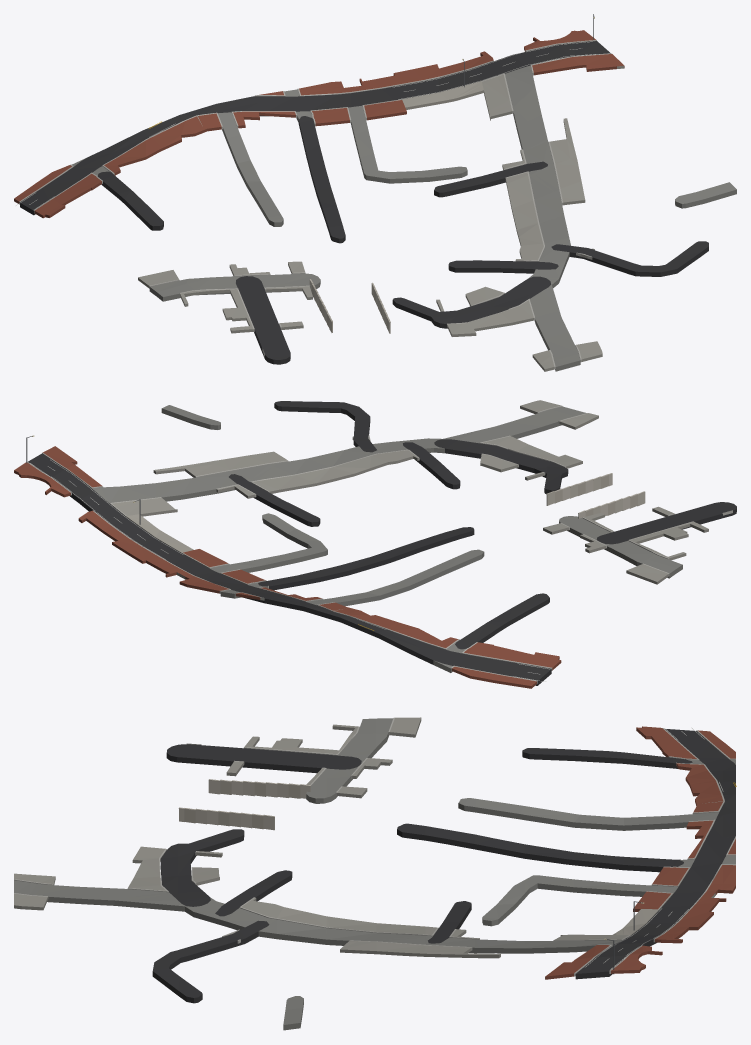
3 views of the same model, one above another, from view 1: azimuth 30°, elevation 25°; view 2: azimuth 150°, elevation 25°; view 3: azimuth 270°, elevation 25° (orthographic). The views are drawn at different scales.
Size of the model in its own units: 149 by 25.21 by 146.
